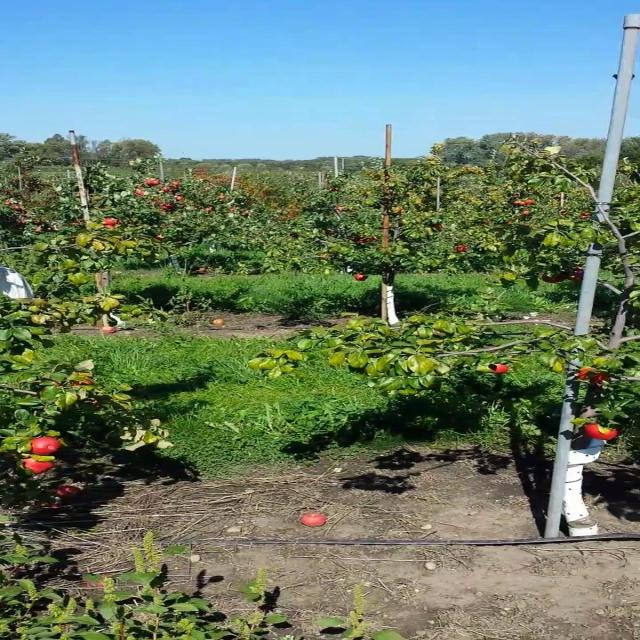apple: (28, 440, 64, 456), (589, 424, 619, 440), (582, 368, 610, 384), (28, 460, 55, 475), (70, 376, 94, 388), (490, 364, 512, 376), (568, 272, 583, 281), (547, 276, 562, 284), (92, 400, 105, 408)
